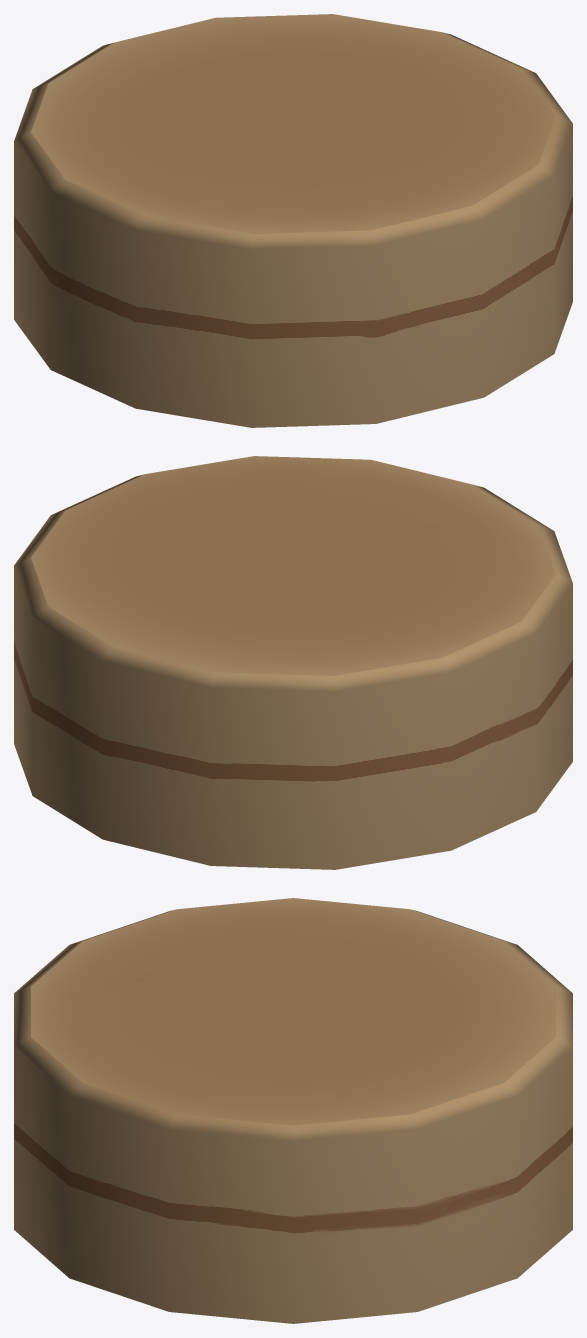
Rendered from unCookedCake.fbx.
The picture shows the model from 3 angles, top to bottom: view 1: azimuth 30°, elevation 25°; view 2: azimuth 150°, elevation 25°; view 3: azimuth 270°, elevation 25°; orthographic projection. The views are drawn at different scales.
Parts seen in each view (by area): view 1: cake3; view 2: cake3; view 3: cake3.
Part boxes in pixels (left/top/right/bottom): cake3: left=14, top=14, right=572, bottom=427; cake3: left=14, top=456, right=572, bottom=869; cake3: left=14, top=898, right=572, bottom=1323.
Size of the model in its own units: 52.52 by 19.91 by 51.2.
Materials: 1 (1 with a texture image).
